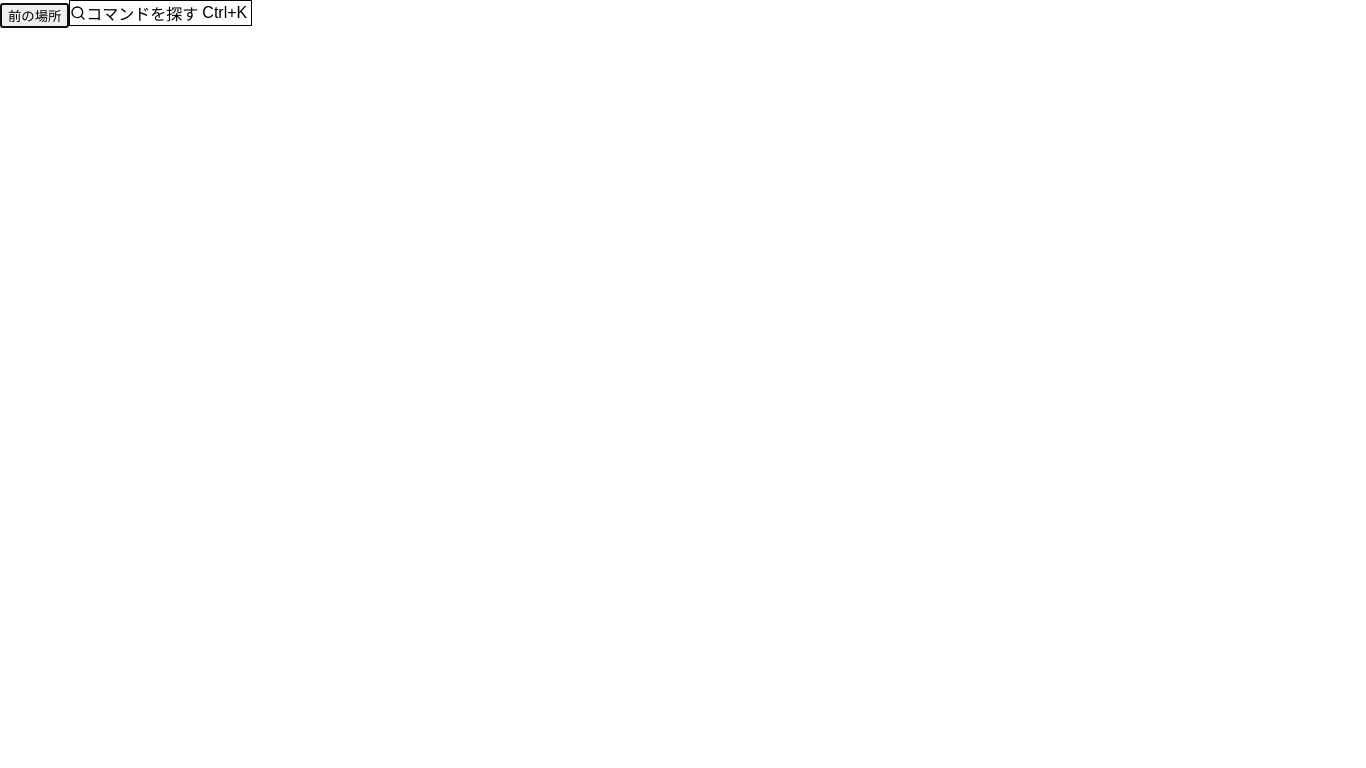
it: CommandPalette › filters, moves past disabled commands and runs one with Enter
Press k
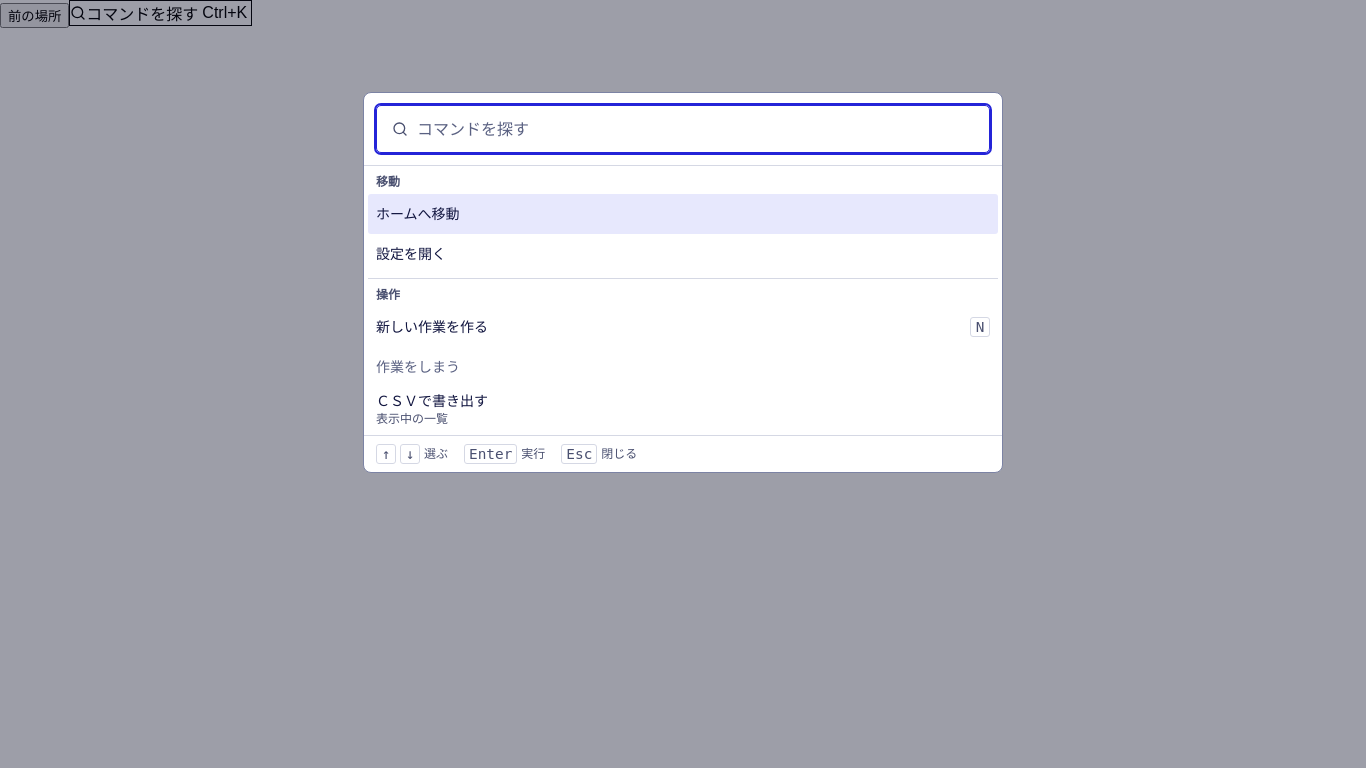
Type "さぎょう" into the dropdown labelled "コマンド". click: (683, 129)
box: [376,105,990,153]
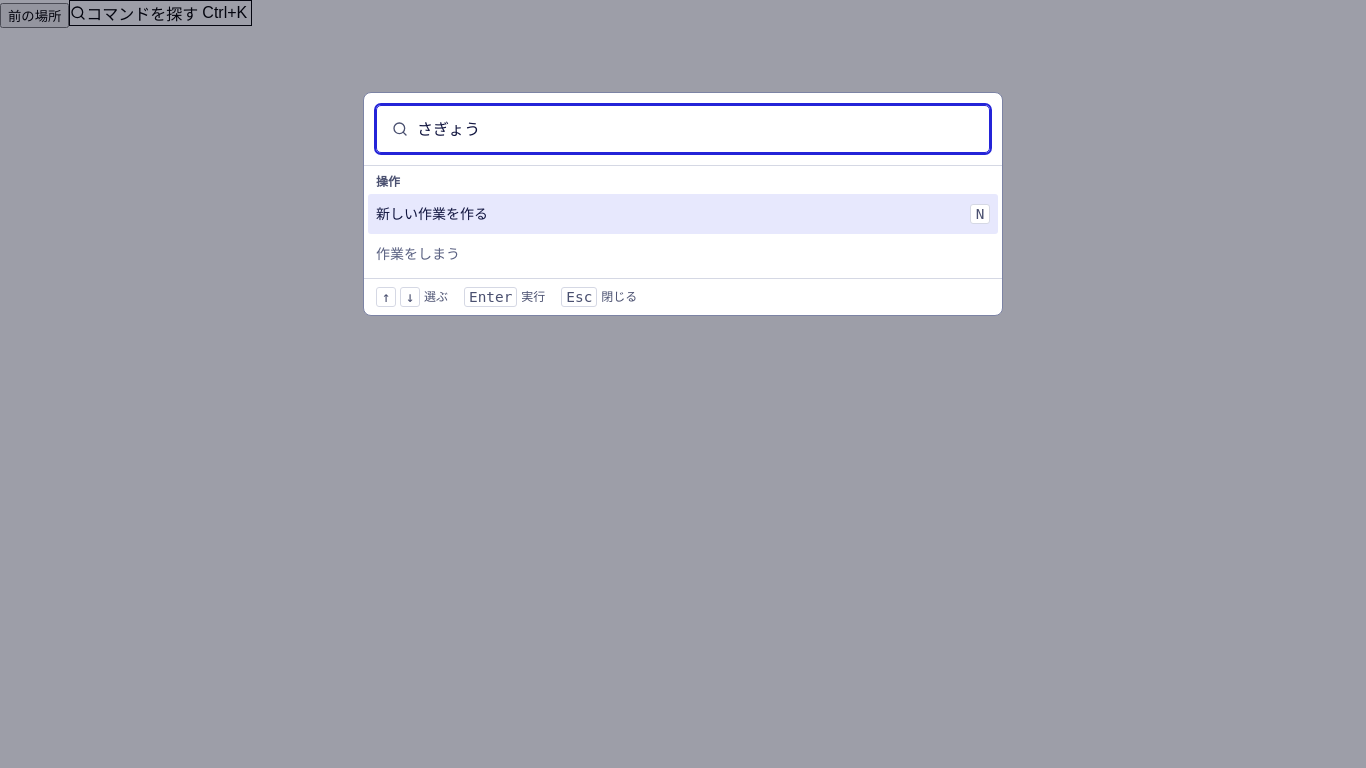
Expected: the list named "操作" is shown, [368,194,998,274]
Expected: the text "移動" is gone
Clear the dropdown named "コマンド". click: (683, 129)
box: [376,105,990,153]
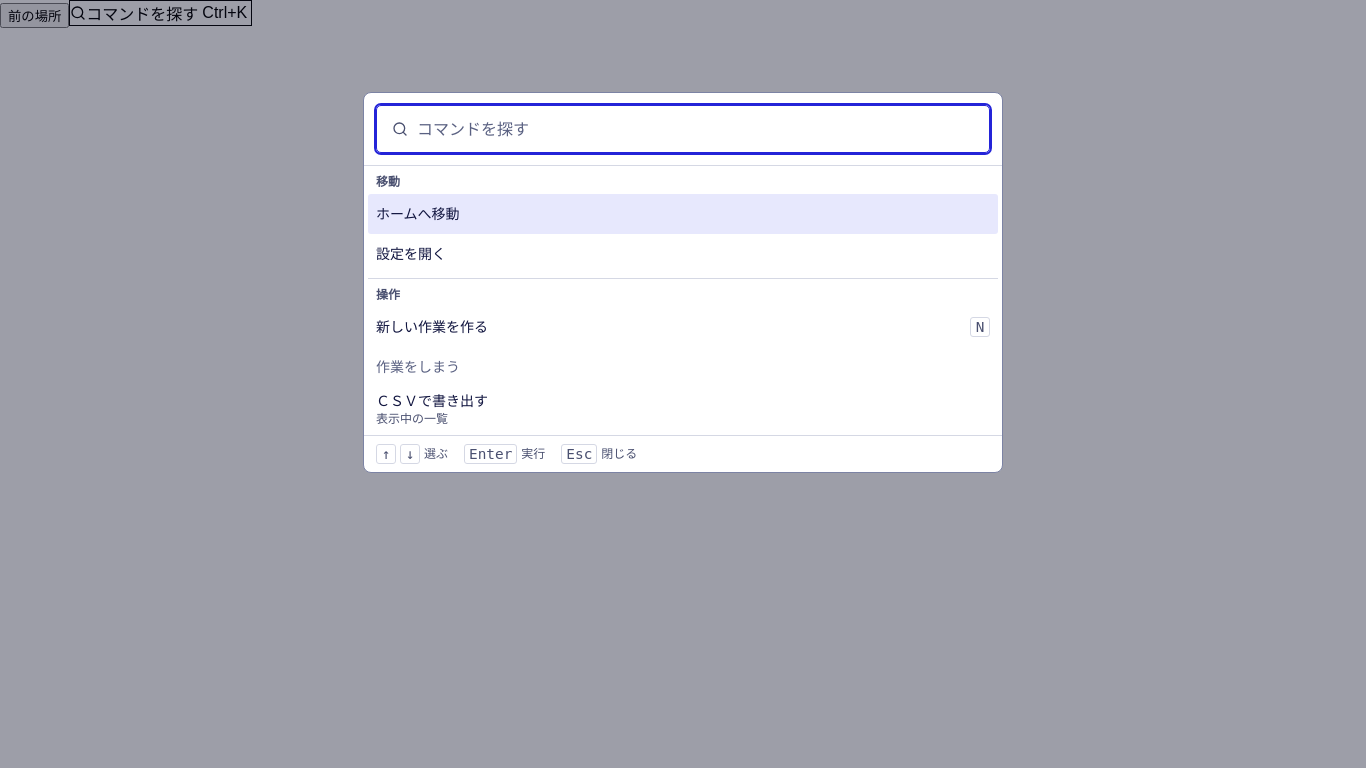
Press Arrowdown Arrowdown Arrowdown
Press Enter
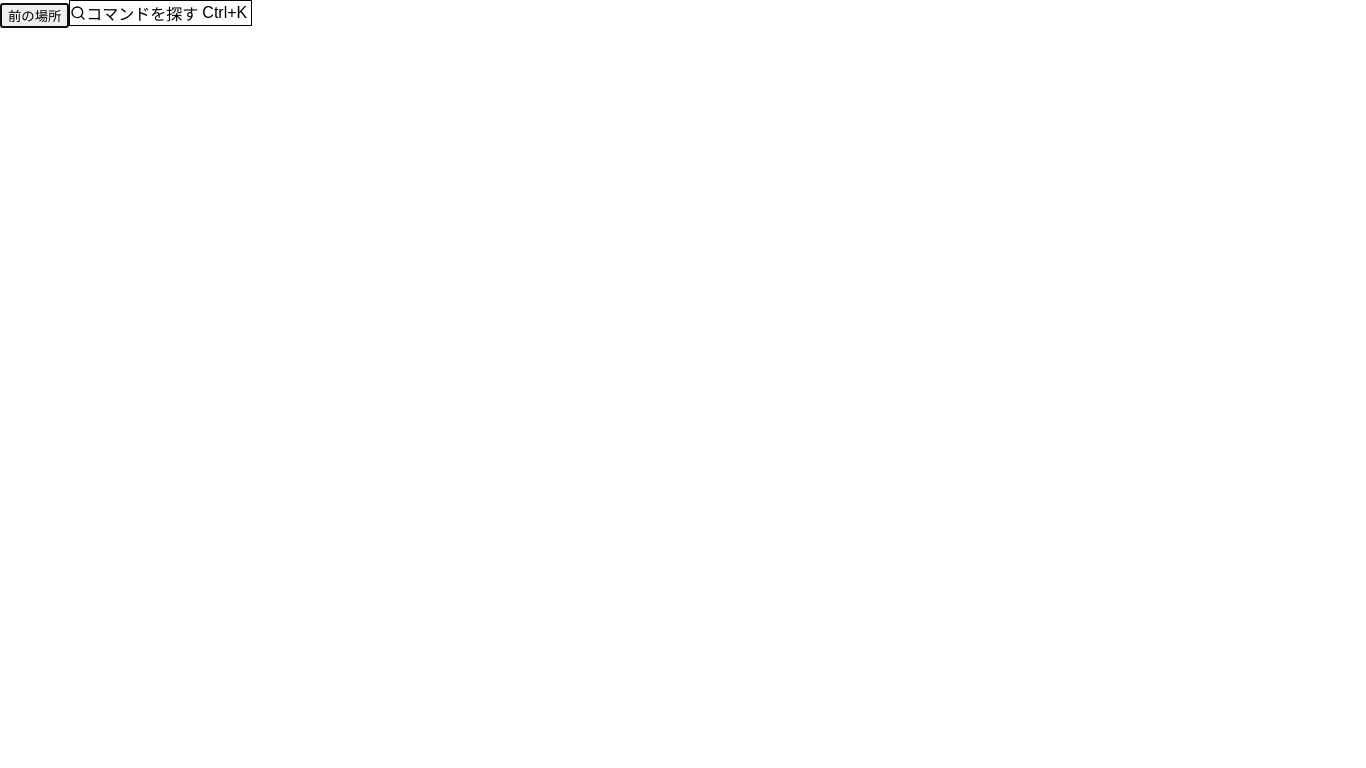
Expected: the dialog is gone
